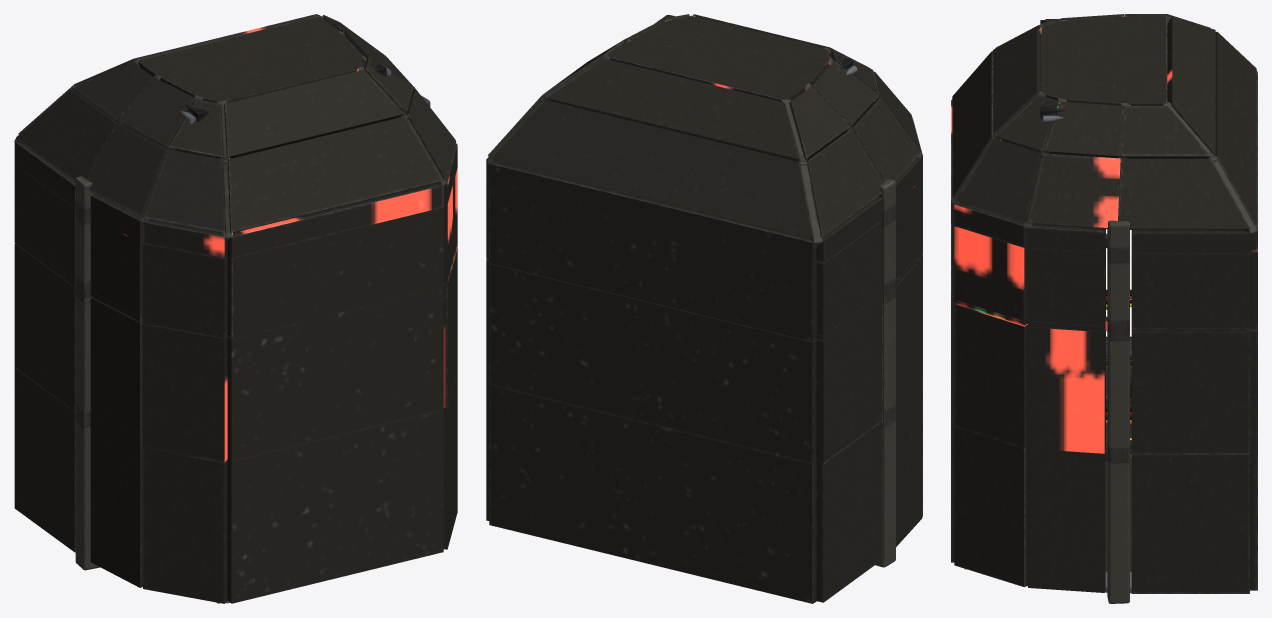
File: cockpit_twintier.gltf
The picture shows the model from 3 angles, left to right: view 1: azimuth 30°, elevation 25°; view 2: azimuth 150°, elevation 25°; view 3: azimuth 270°, elevation 25°; orthographic projection.
Visible parts, largest first — view 1: INNER_top_1_cabin, pod_cabin, INNER_lower_1_cabin; view 2: pod_cabin, INNER_top_1_cabin; view 3: INNER_top_1_cabin, pod_cabin, INNER_lower_1_cabin.
Boxes of the visible parts, bbox=[...] form: INNER_top_1_cabin: bbox=[14, 14, 457, 337]; pod_cabin: bbox=[14, 243, 457, 603]; INNER_lower_1_cabin: bbox=[227, 286, 443, 603]; pod_cabin: bbox=[486, 255, 922, 603]; INNER_top_1_cabin: bbox=[486, 14, 922, 341]; INNER_top_1_cabin: bbox=[951, 14, 1257, 341]; pod_cabin: bbox=[954, 229, 1257, 603]; INNER_lower_1_cabin: bbox=[951, 301, 954, 562].
Bounding box in the file's own units: 2 × 2.59 × 1.56.
Materials: 9 (8 with a texture image).
